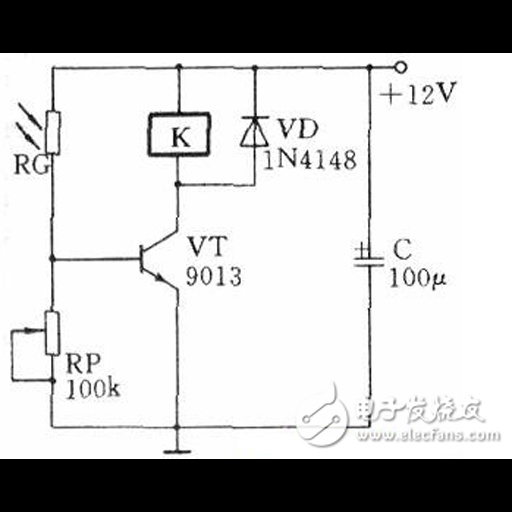firstpolarcapacitor: (349, 237, 386, 277)
npn: (121, 217, 184, 301)
seconddiode: (233, 110, 272, 151)
